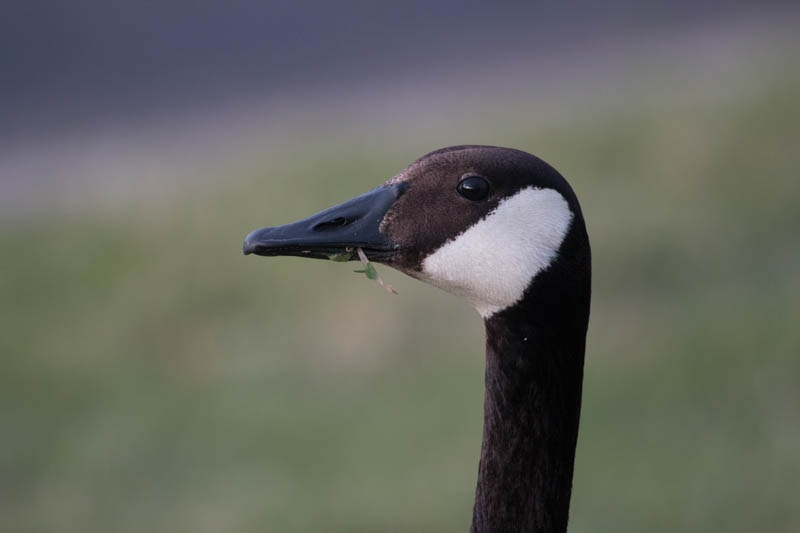goose-head: (243, 146, 592, 321)
